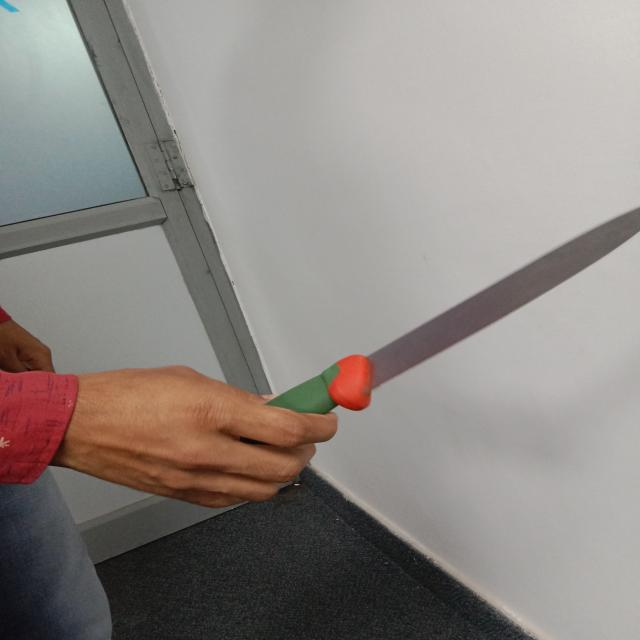Knife: (268, 208, 640, 415)
Knife_Handle: (56, 172, 640, 525)
